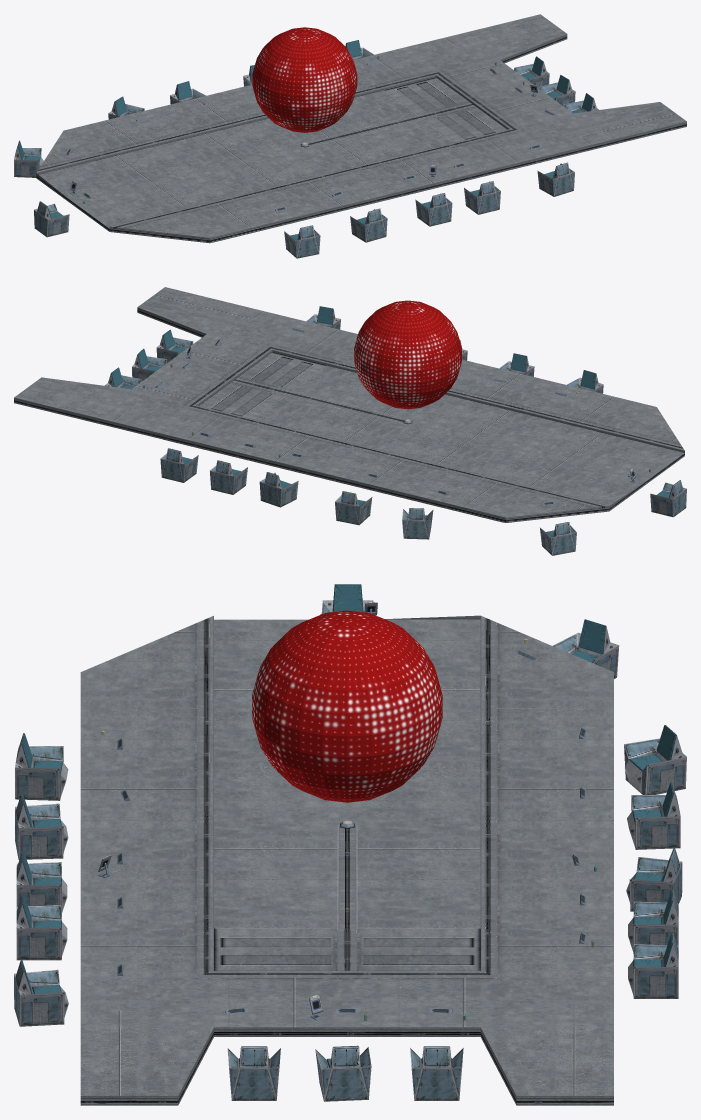
The model's file is frn_impl_table_giant_s01_l0.fbx.
3 views of the same model, one above another, from view 1: azimuth 30°, elevation 25°; view 2: azimuth 150°, elevation 25°; view 3: azimuth 270°, elevation 25° (orthographic). The views are drawn at different scales.
Parts seen in each view (by area): view 1: mesh_node; view 2: mesh_node; view 3: mesh_node.
Boxes of the visible parts, box(x1,y1,x2,y2) form: mesh_node: box(14, 14, 686, 258); mesh_node: box(14, 287, 686, 555); mesh_node: box(14, 584, 686, 1105).
Size of the model in its own units: 21.2 by 4.81 by 11.85.
